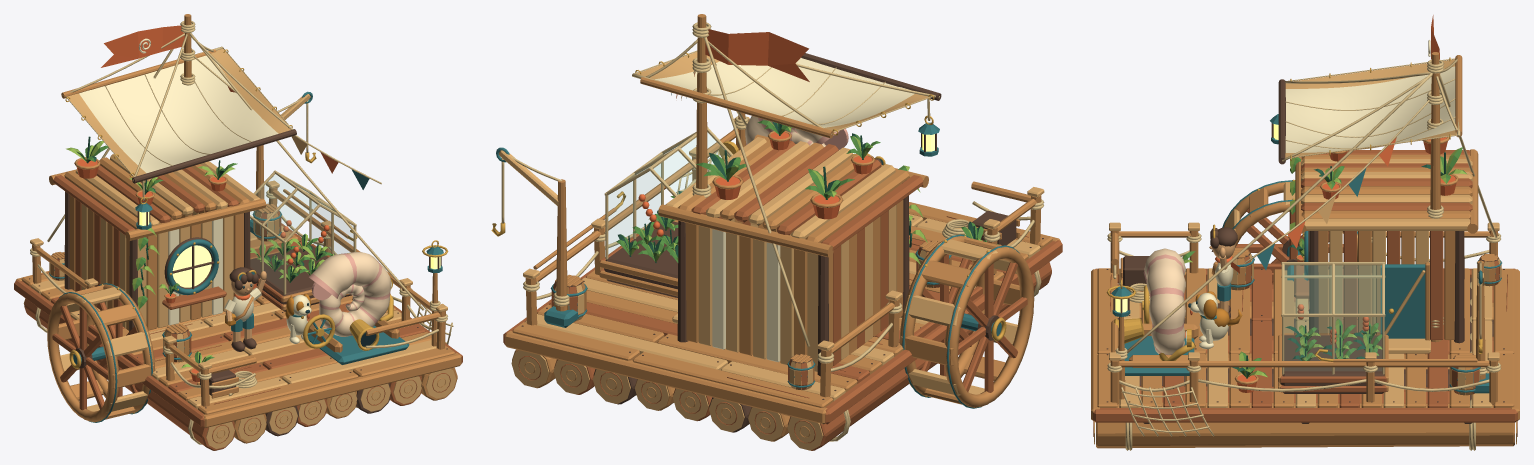
Rendered from workshop.glb.
3 views of the same model, side by side, from view 1: azimuth 30°, elevation 25°; view 2: azimuth 150°, elevation 25°; view 3: azimuth 270°, elevation 25° (orthographic). The views are drawn at different scales.
Parts seen in each view (by area): view 1: Workshop_Static_Geometry, Upgrade_sail_Geometry, Wheel_Geometry, Upgrade_greenhouse_Geometry, Pennant_Main_Geometry, Explorer_Geometry, Upgrade_beacon_Geometry, Engine_Flywheel_Geometry, Upgrade_crane_Geometry; view 2: Workshop_Static_Geometry, Upgrade_sail_Geometry, Wheel_Geometry, Upgrade_greenhouse_Geometry, Pennant_Main_Geometry, Upgrade_crane_Geometry, Crane_Boom_Geometry; view 3: Workshop_Static_Geometry, Upgrade_sail_Geometry, Upgrade_greenhouse_Geometry, Wheel_Geometry, Upgrade_beacon_Geometry, Explorer_Geometry, Upgrade_crane_Geometry.
Part boxes in pixels (x1,y1,x2,y2): Workshop_Static_Geometry: [14, 136, 462, 450]; Upgrade_sail_Geometry: [47, 14, 424, 310]; Wheel_Geometry: [47, 283, 155, 422]; Upgrade_greenhouse_Geometry: [250, 170, 356, 311]; Pennant_Main_Geometry: [101, 25, 184, 67]; Explorer_Geometry: [225, 267, 258, 326]; Upgrade_beacon_Geometry: [422, 240, 448, 346]; Engine_Flywheel_Geometry: [303, 314, 335, 348]; Upgrade_crane_Geometry: [250, 145, 274, 235]; Workshop_Static_Geometry: [503, 116, 1062, 450]; Upgrade_sail_Geometry: [632, 14, 941, 346]; Wheel_Geometry: [899, 234, 1034, 408]; Upgrade_greenhouse_Geometry: [599, 126, 733, 297]; Pennant_Main_Geometry: [705, 29, 809, 81]; Upgrade_crane_Geometry: [544, 179, 579, 327]; Crane_Boom_Geometry: [496, 147, 562, 206]; Workshop_Static_Geometry: [1091, 137, 1519, 450]; Upgrade_sail_Geometry: [1127, 52, 1497, 352]; Upgrade_greenhouse_Geometry: [1278, 262, 1388, 393]; Wheel_Geometry: [1222, 179, 1357, 284]; Upgrade_beacon_Geometry: [1106, 280, 1136, 399]; Explorer_Geometry: [1209, 224, 1239, 286]; Upgrade_crane_Geometry: [1472, 260, 1489, 393].
Size of the model in its own units: 9.09 by 8.45 by 9.23.
